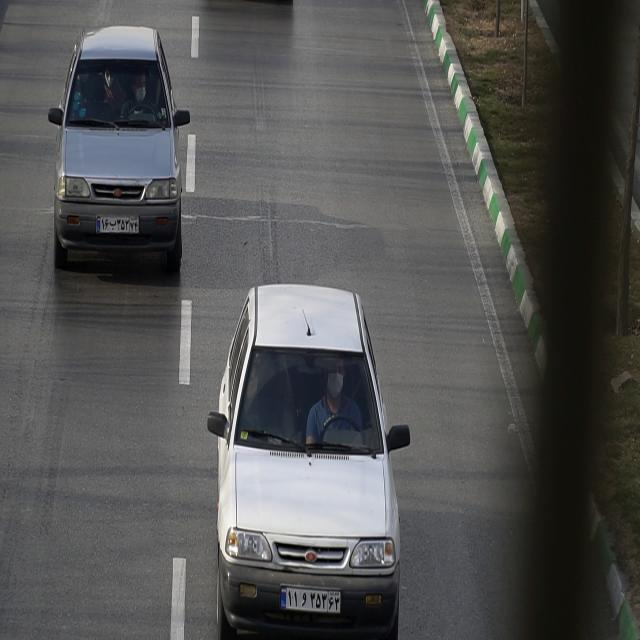car: (205, 288, 411, 632), (48, 22, 191, 272)
